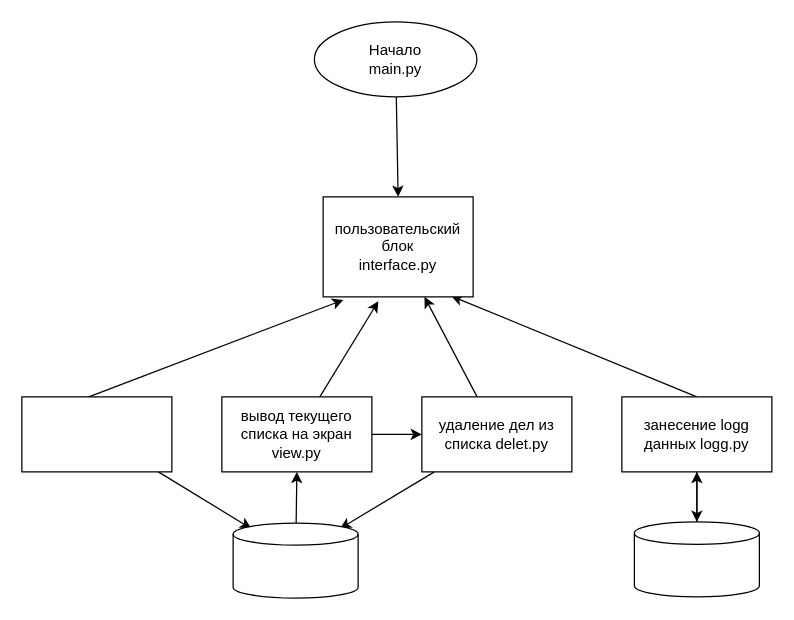
The diagram is 794 pixels wide and 620 high, and some of its shapes have lost their labels. Here are the shapes that lost their labels. From the top down, the box of each, then its label:
(21, 396, 172, 472): добавление в список дел add.py
(232, 522, 358, 598): список дел
(633, 521, 759, 597): logg данные
